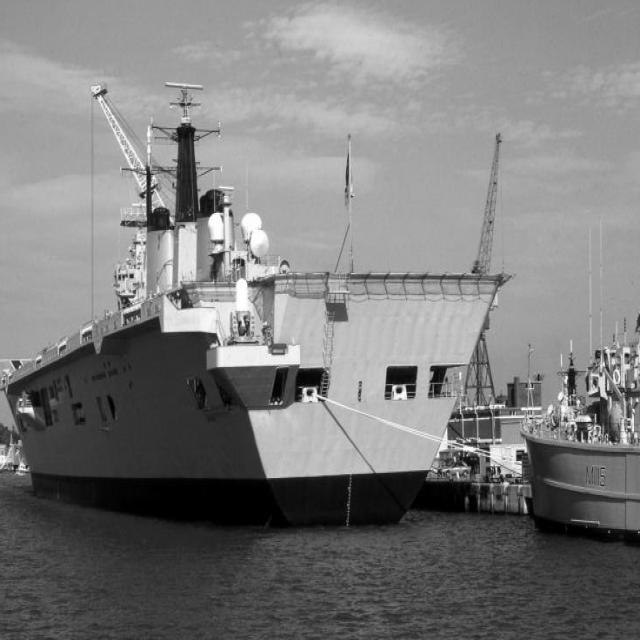Portanaves: (1, 67, 515, 536)
